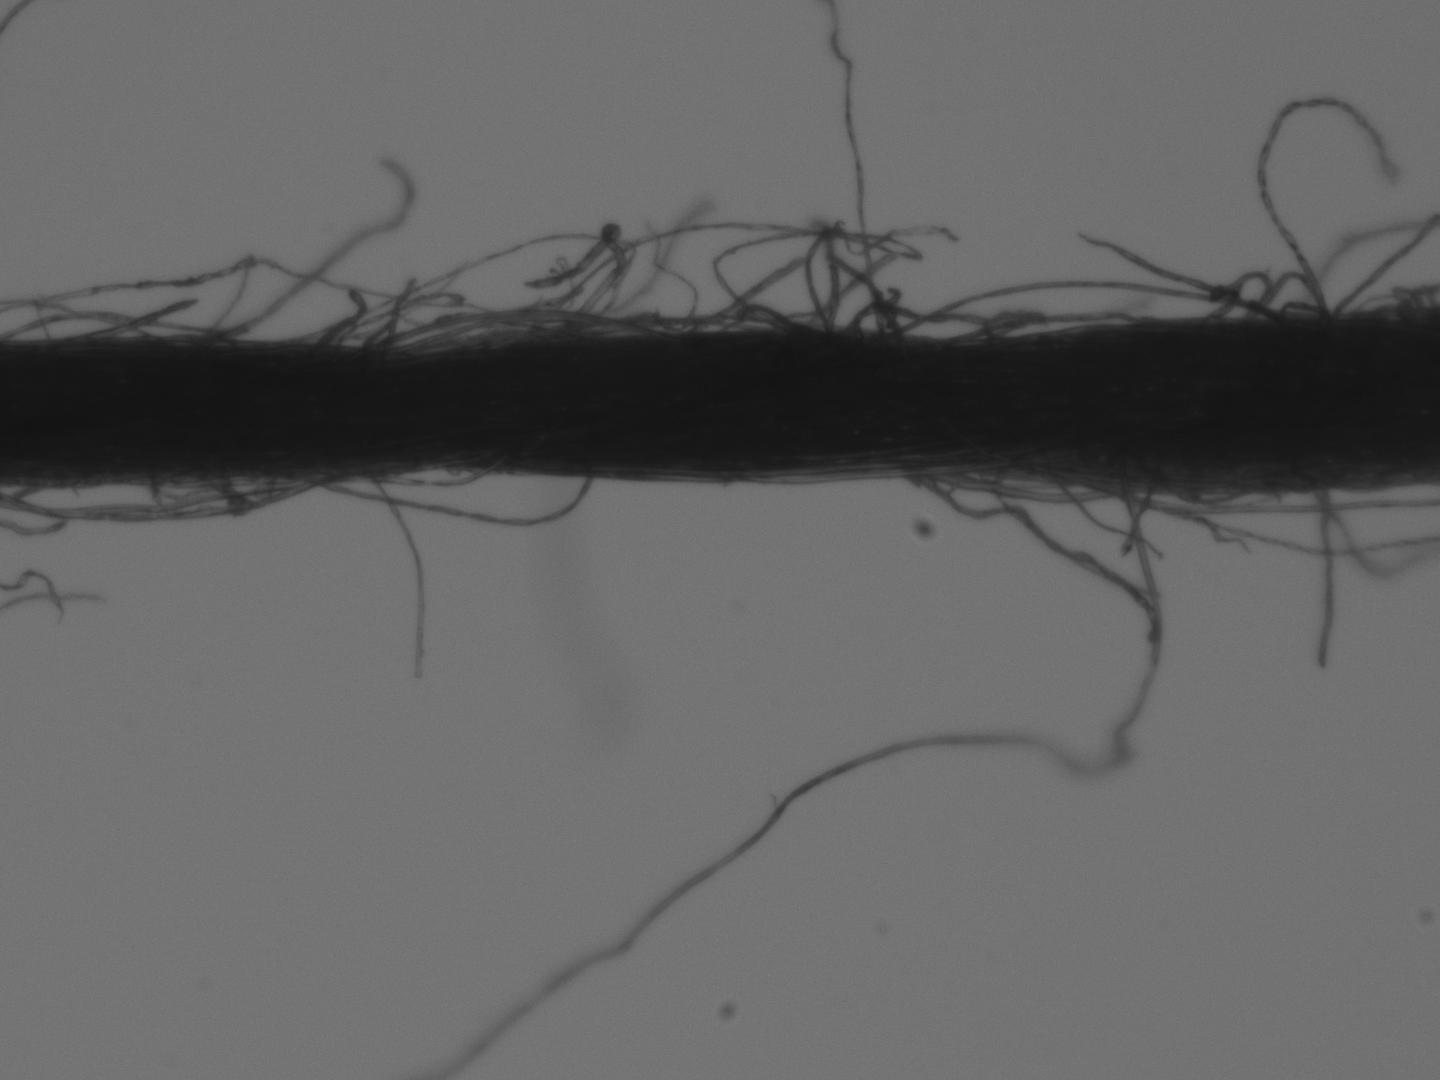loop_fiber: (308, 461, 585, 524), (7, 473, 334, 521), (374, 309, 650, 356), (9, 310, 229, 346), (920, 464, 1116, 504), (331, 292, 455, 352), (965, 307, 1140, 346), (847, 299, 988, 347), (1252, 267, 1323, 326), (1201, 264, 1272, 321), (711, 303, 821, 338), (808, 229, 840, 337), (362, 463, 498, 488), (1352, 286, 1430, 315)
protruding_fiber: (214, 155, 406, 339), (1253, 91, 1396, 320), (1078, 227, 1261, 317), (370, 459, 431, 686), (696, 258, 802, 331), (66, 299, 195, 340), (1315, 489, 1335, 665)
